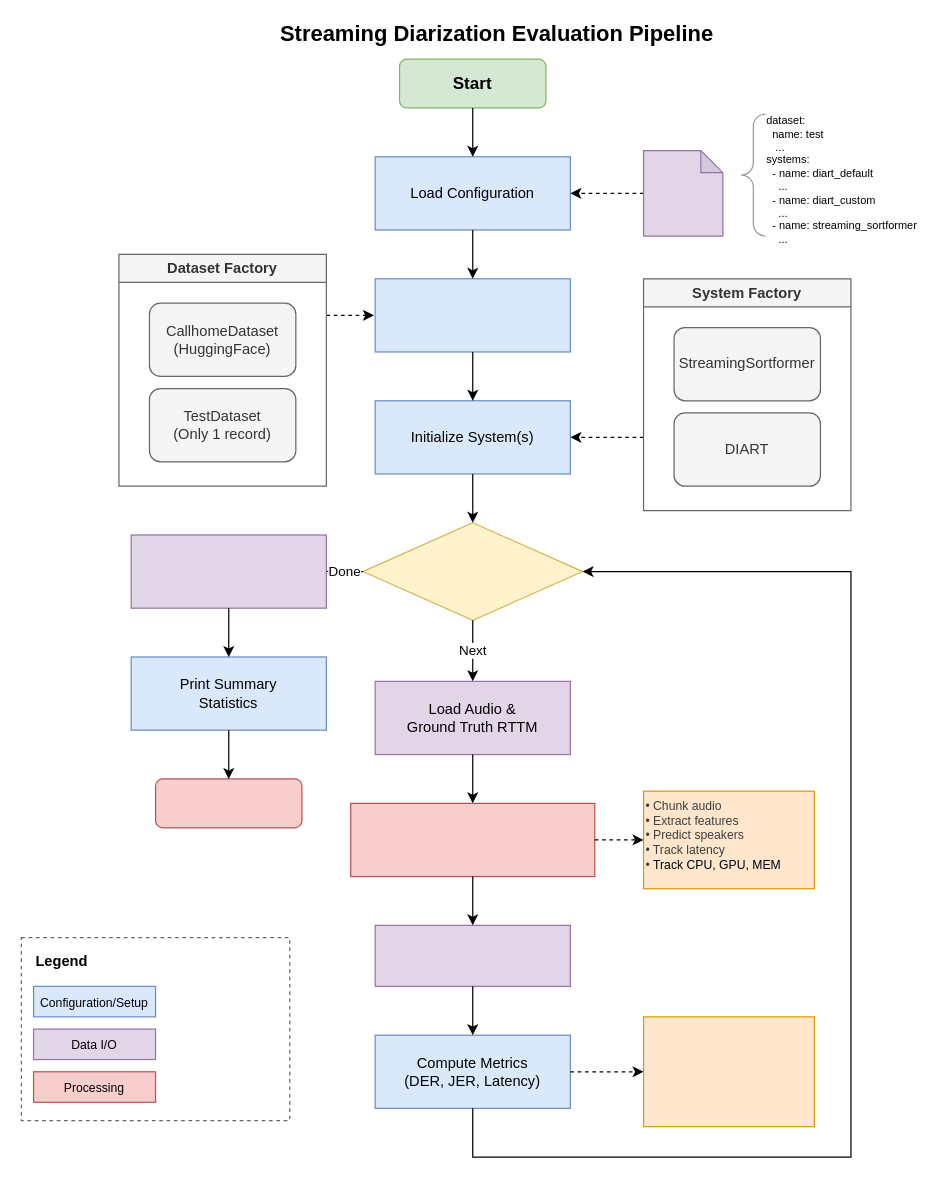
The diagram is 946 pixels wide and 1188 high, and some of its shapes have lost their labels. Each missing label, with the centre of its shape:
config.yaml: the point at 682,192
End: the point at 228,803
For Each Recording: the point at 472,571
Initialize Dataset: the point at 472,315
Run Diarization System (with Resource Monitoring): the point at 472,839
Save Prediction RTTM: the point at 472,955
Save Results to CSV (metrics.csv): the point at 228,571
• DER (False Alarm, Miss, Confusion) • JER • Latency stats • Resource usage: the point at 728,1071
